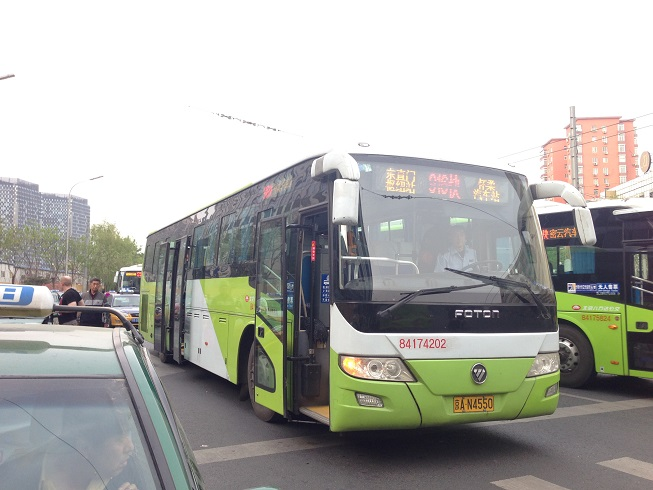bus: (137, 149, 563, 435)
